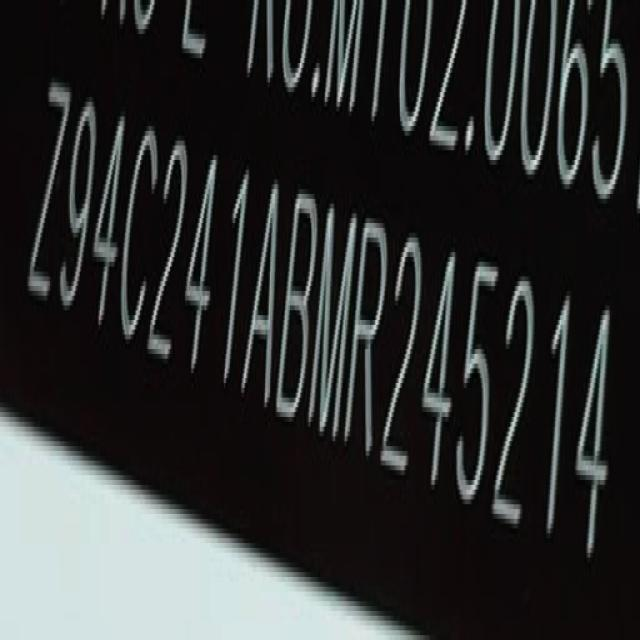1: (534, 288, 576, 550), (214, 159, 253, 391)
2: (492, 270, 540, 533), (382, 232, 429, 480), (146, 137, 192, 370)
4: (571, 305, 620, 560), (416, 245, 463, 499), (87, 104, 133, 335), (183, 157, 226, 380)
5: (454, 261, 502, 516)
9: (57, 97, 101, 316)
A: (244, 171, 288, 402)
B: (274, 186, 324, 427)
C: (116, 116, 164, 351)
M: (307, 198, 358, 444)
R: (341, 212, 391, 464)
Z: (19, 71, 74, 314)
